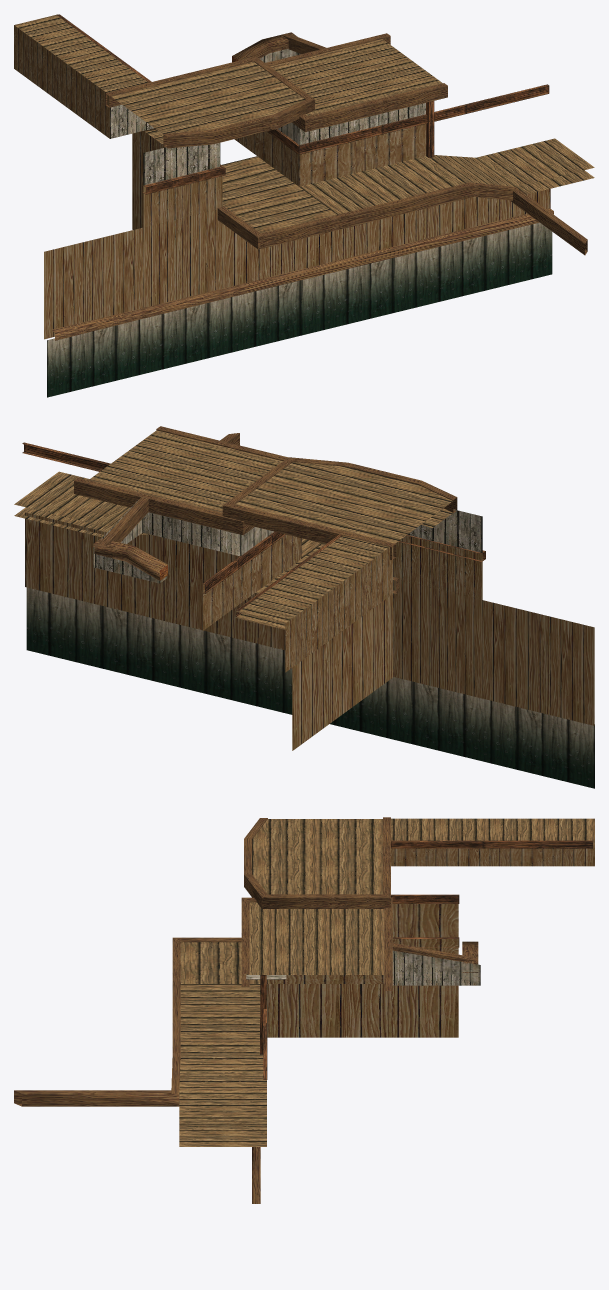
File: LAKETOWN_EXTERIOR_PS_LT_PIERPARTS0899__GX.fbx
3 views of the same model, one above another, from view 1: azimuth 30°, elevation 25°; view 2: azimuth 150°, elevation 25°; view 3: azimuth 270°, elevation 25° (orthographic). The views are drawn at different scales.
Parts seen in each view (by area): view 1: LAKETOWN_EXTERIOR_PS_LT_PIERPARTS0899__GX; view 2: LAKETOWN_EXTERIOR_PS_LT_PIERPARTS0899__GX; view 3: LAKETOWN_EXTERIOR_PS_LT_PIERPARTS0899__GX.
Part boxes in pixels (left/top/right/bottom): LAKETOWN_EXTERIOR_PS_LT_PIERPARTS0899__GX: left=14, top=14, right=594, bottom=397; LAKETOWN_EXTERIOR_PS_LT_PIERPARTS0899__GX: left=14, top=426, right=594, bottom=788; LAKETOWN_EXTERIOR_PS_LT_PIERPARTS0899__GX: left=14, top=817, right=594, bottom=1203.
Size of the model in its own units: 227405 by 97512 by 203481.
8 materials, 8 textured.
